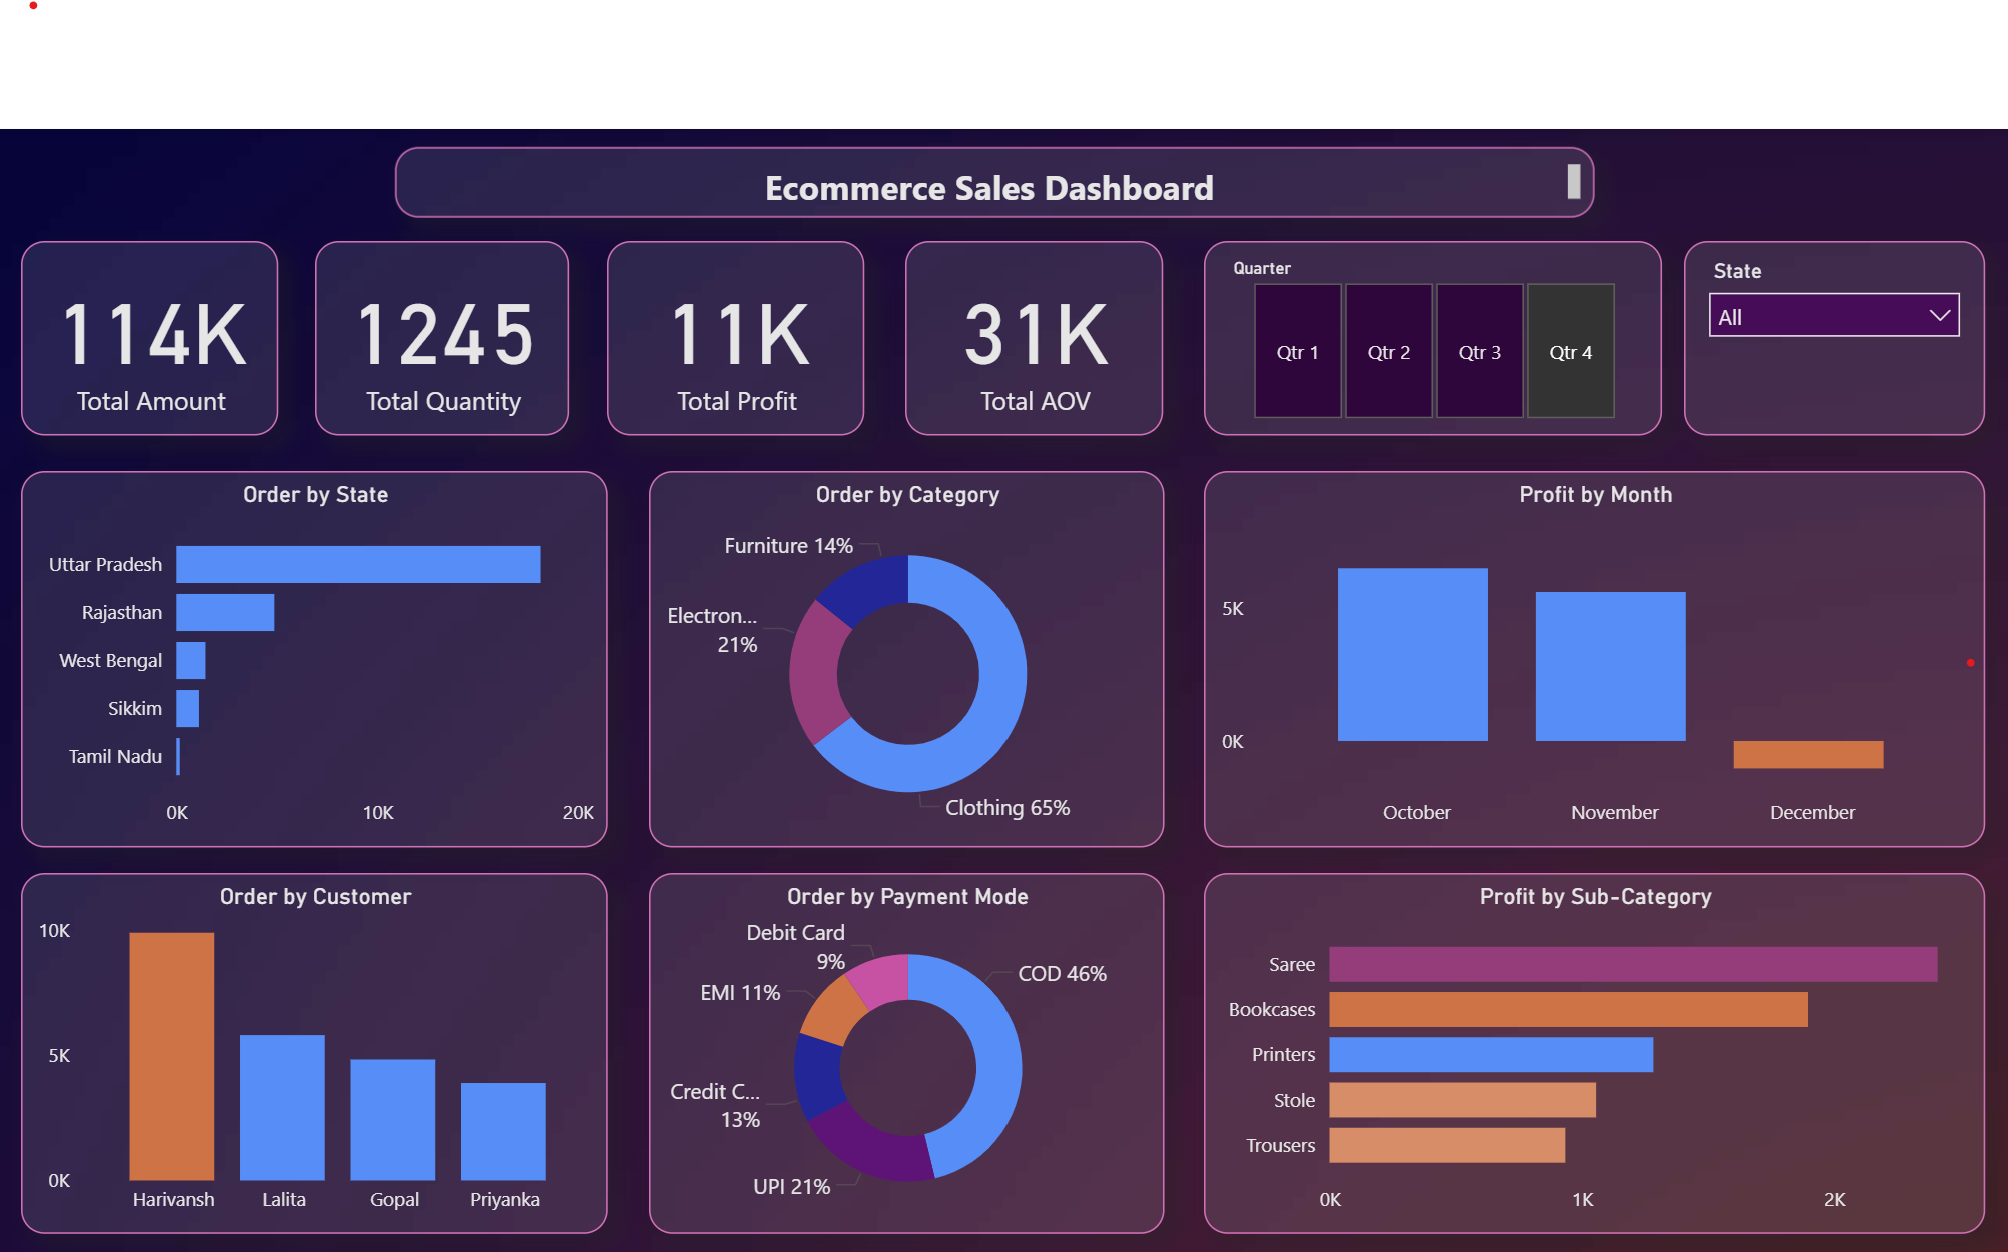

What the dashboard file says about the page in this screenshot:
{"tool":"powerbi","page":{"name":"Page 1","canvas":[1280,720],"ordinal":0},"visuals":[{"type":"textbox","box":[253,12,764,45],"z":0},{"type":"columnChart","title":"Profit by Month","fields":{"Y":["Sum(Details.Profit)"],"Category":["Orders.Order Date.Variation.Date Hierarchy.Month"]},"box":[768,218,498,240],"z":1000},{"type":"barChart","title":"Profit by Sub-Category","fields":{"Category":["Details.Sub-Category"],"Y":["Sum(Details.Profit)"]},"box":[768,474,498,230],"z":2000},{"type":"donutChart","title":"Order by Category","fields":{"Category":["Details.Category"],"Y":["Sum(Details.Quantity)"]},"box":[414,218,328,240],"z":3000},{"type":"donutChart","title":"Order by Payment Mode","fields":{"Category":["Details.PaymentMode","Details.Category"],"Y":["Sum(Details.Quantity)"]},"box":[414,474,328,230],"z":4000},{"type":"card","fields":{"Values":["Sum(Details.Amount)"]},"box":[14,72,164,124],"z":5000},{"type":"card","fields":{"Values":["Sum(Details.Quantity)"]},"box":[202,72,162,124],"z":6000},{"type":"card","fields":{"Values":["Sum(Details.Profit)"]},"box":[388,72,164,124],"z":7000},{"type":"card","fields":{"Values":["Sum(Details.AOV)"]},"box":[578,72,164,124],"z":8000},{"type":"barChart","title":"Order by State","fields":{"Category":["Orders.State"],"Y":["Sum(Details.Amount)"]},"box":[14,218,374,240],"z":9000},{"type":"columnChart","title":"Order by Customer","fields":{"Category":["Orders.CustomerName"],"Y":["Sum(Details.Amount)"]},"box":[14,474,374,230],"z":10000},{"type":"slicer","fields":{"Values":["Orders.Order Date.Variation.Date Hierarchy.Quarter"]},"box":[768,72,292,124],"z":11000},{"type":"slicer","fields":{"Values":["Orders.State"]},"box":[1074,72,192,124],"z":12000}]}

Visuals, with their boxes on the page's 1280x720 design canvas (x1, y1, x2, y2). These are canvas units, not pixel positions in the 2008x1252 screenshot, which may show the page scaled, cropped or inside an application window:
textbox: BBox(253, 12, 1017, 57)
"Profit by Month" columnChart: BBox(768, 218, 1266, 458)
"Profit by Sub-Category" barChart: BBox(768, 474, 1266, 704)
"Order by Category" donutChart: BBox(414, 218, 742, 458)
"Order by Payment Mode" donutChart: BBox(414, 474, 742, 704)
card - Sum(Details.Amount): BBox(14, 72, 178, 196)
card - Sum(Details.Quantity): BBox(202, 72, 364, 196)
card - Sum(Details.Profit): BBox(388, 72, 552, 196)
card - Sum(Details.AOV): BBox(578, 72, 742, 196)
"Order by State" barChart: BBox(14, 218, 388, 458)
"Order by Customer" columnChart: BBox(14, 474, 388, 704)
slicer - Orders.Order Date.Variation.Date Hierarchy.Quarter: BBox(768, 72, 1060, 196)
slicer - Orders.State: BBox(1074, 72, 1266, 196)
